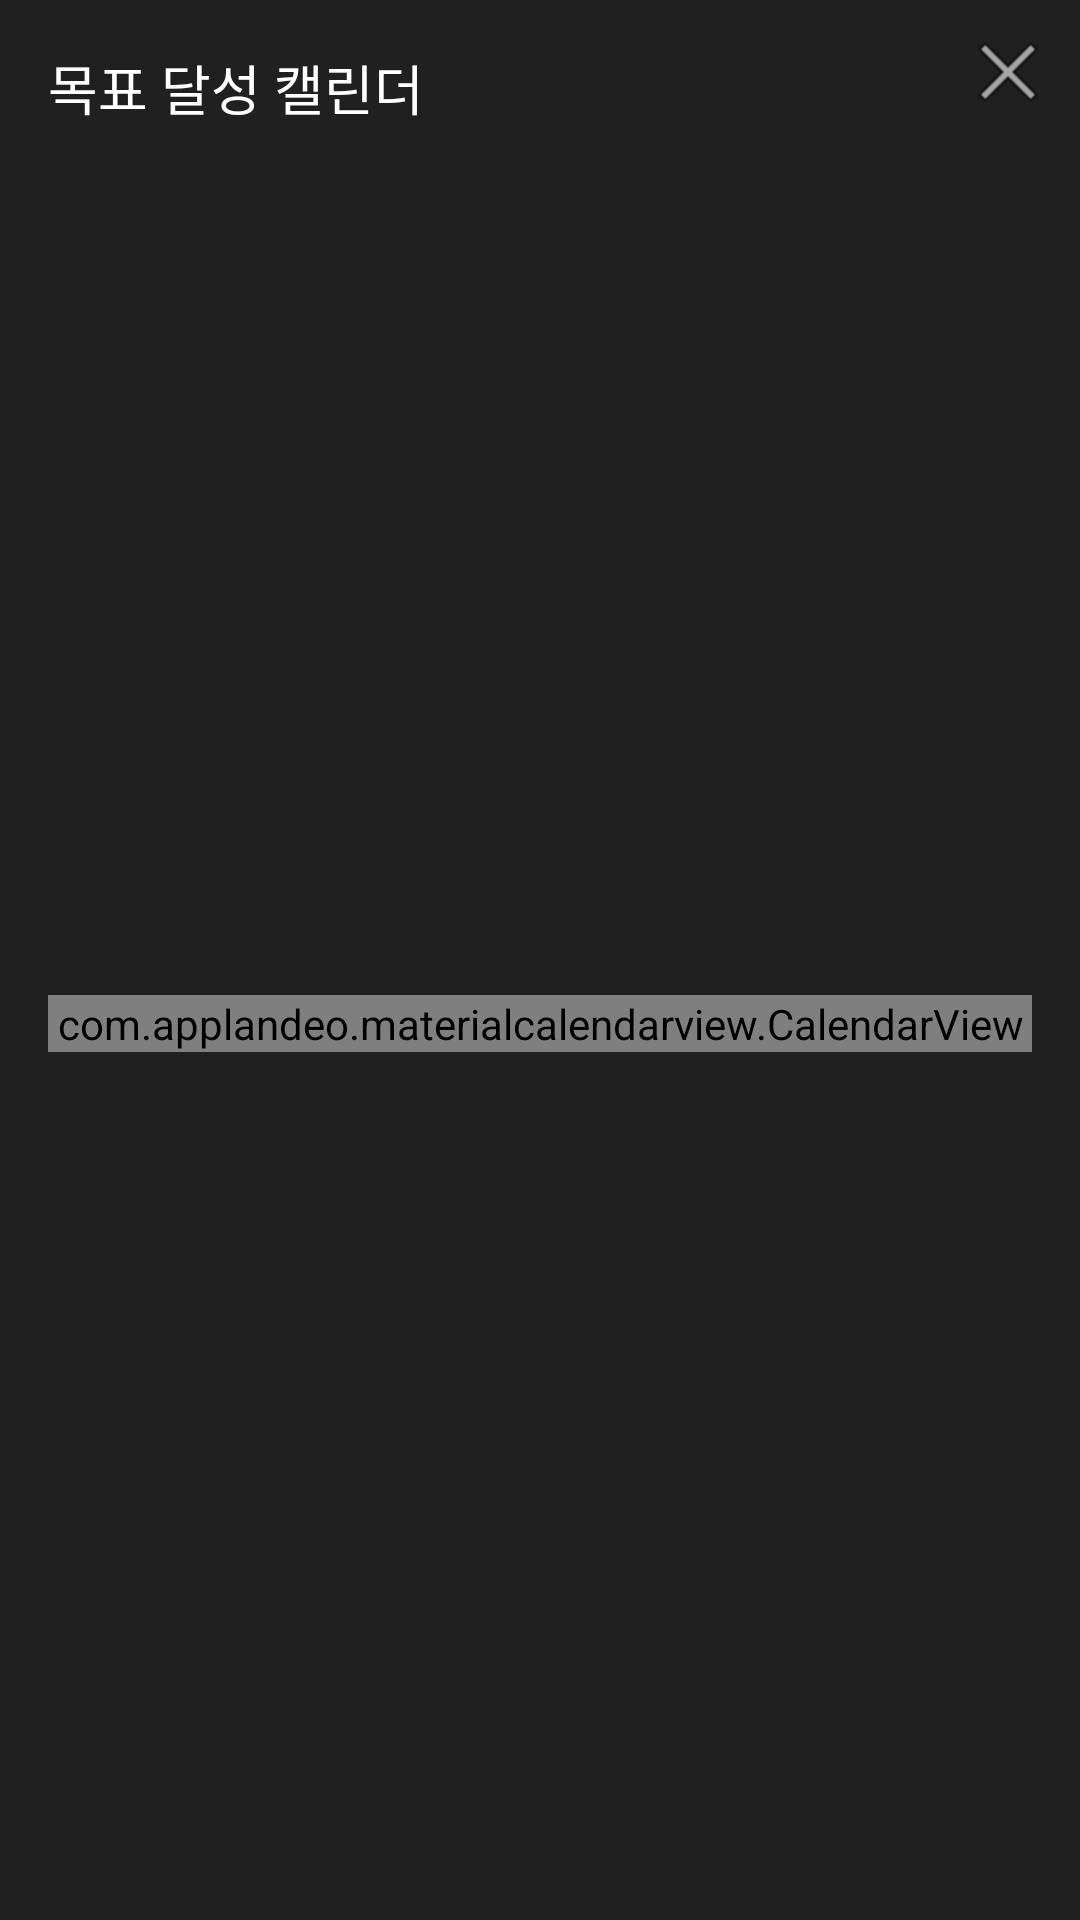

Named icons in this screenshot (1080 x 1920) and their centers, point (x, y):
close clear cancel: point (1008, 72)
